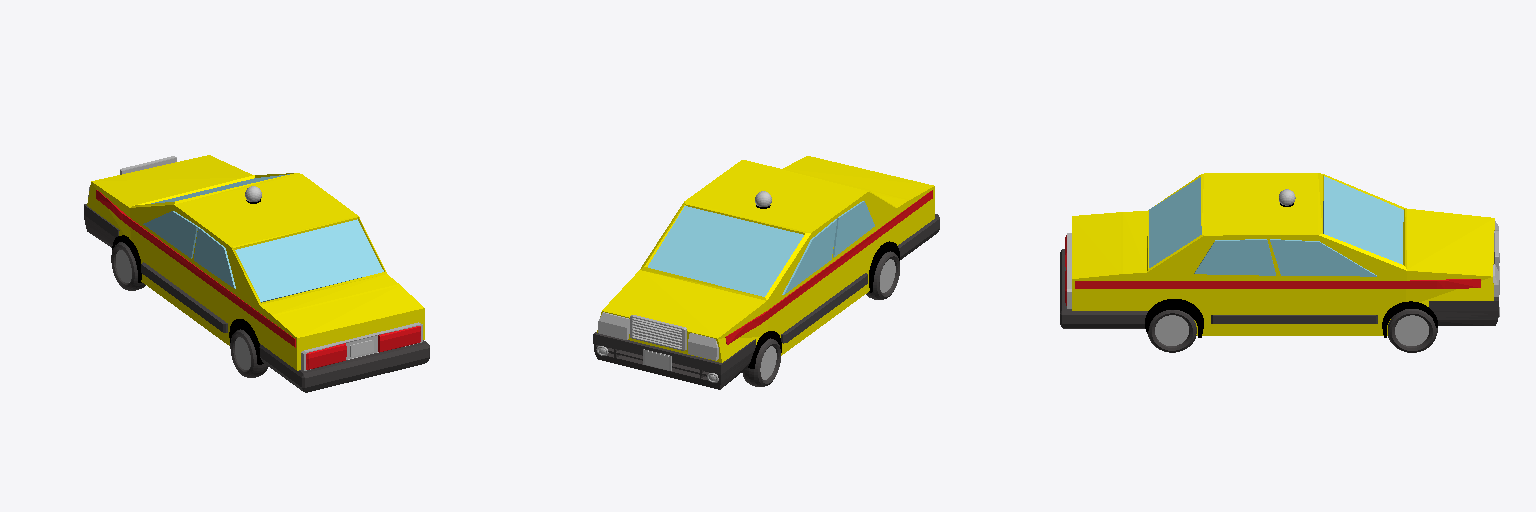
The picture shows the model from 3 angles: view 1: azimuth 30°, elevation 25°; view 2: azimuth 150°, elevation 25°; view 3: azimuth 270°, elevation 25°; orthographic projection.
Parts seen in each view (by area): view 1: Cube.001, 立方体.013_立方体.016, 立方体.006_立方体.007, 立方体.011_立方体.014, 立方体.015_立方体.018, 立方体.007_立方体.008, 立方体.014_立方体.017, 立方体_立方体.001, 立方体.008_立方体.009, Torus.004_Torus.007, Torus.003; view 2: Cube.001, 立方体.012_立方体.015, 立方体_立方体.001, 立方体.011_立方体.014, 立方体.015_立方体.018, 立方体.005_立方体.006, 立方体.014_立方体.017, Torus.003, 立方体.003_立方体.004, 立方体.006_立方体.007, 立方体.004_立方体.005, Torus.004_Torus.007; view 3: Cube.001, 立方体.010_立方体.011, 立方体.012_立方体.015, 立方体.015_立方体.018, 立方体.013_立方体.016, 立方体.006_立方体.007, 立方体_立方体.001, 立方体.014_立方体.017, Torus.005_Torus.008, 円柱.005_円柱.008, 円柱.004_円柱.007, Torus.006_Torus.009 (+1 smaller).
Part boxes in pixels (left/top/right/bottom): Cube.001: left=87, top=155, right=424, bottom=370; 立方体.013_立方体.016: left=235, top=219, right=383, bottom=302; 立方体.006_立方体.007: left=259, top=340, right=429, bottom=392; 立方体.011_立方体.014: left=143, top=211, right=235, bottom=288; 立方体.015_立方体.018: left=96, top=190, right=295, bottom=347; 立方体.007_立方体.008: left=306, top=326, right=420, bottom=369; 立方体.014_立方体.017: left=141, top=262, right=227, bottom=332; 立方体_立方体.001: left=84, top=204, right=119, bottom=247; 立方体.008_立方体.009: left=301, top=322, right=422, bottom=370; Torus.004_Torus.007: left=230, top=329, right=268, bottom=377; Torus.003: left=111, top=242, right=145, bottom=290; Cube.001: left=597, top=156, right=934, bottom=362; 立方体.012_立方体.015: left=648, top=206, right=803, bottom=296; 立方体_立方体.001: left=593, top=332, right=755, bottom=389; 立方体.011_立方体.014: left=782, top=201, right=874, bottom=294; 立方体.015_立方体.018: left=725, top=190, right=932, bottom=344; 立方体.005_立方体.006: left=630, top=315, right=686, bottom=350; 立方体.014_立方体.017: left=781, top=273, right=867, bottom=343; Torus.003: left=742, top=338, right=780, bottom=386; 立方体.003_立方体.004: left=598, top=312, right=629, bottom=339; 立方体.006_立方体.007: left=898, top=214, right=939, bottom=259; 立方体.004_立方体.005: left=688, top=333, right=718, bottom=360; Torus.004_Torus.007: left=866, top=251, right=899, bottom=299; Cube.001: left=1072, top=173, right=1494, bottom=335; 立方体.010_立方体.011: left=1194, top=239, right=1376, bottom=276; 立方体.012_立方体.015: left=1323, top=176, right=1403, bottom=264; 立方体.015_立方体.018: left=1075, top=279, right=1480, bottom=288; 立方体.013_立方体.016: left=1149, top=177, right=1201, bottom=267; 立方体.006_立方体.007: left=1060, top=249, right=1147, bottom=328; 立方体_立方体.001: left=1429, top=252, right=1498, bottom=325; 立方体.014_立方体.017: left=1211, top=315, right=1377, bottom=323; Torus.005_Torus.008: left=1388, top=309, right=1437, bottom=352; 円柱.005_円柱.008: left=1155, top=315, right=1188, bottom=345; 円柱.004_円柱.007: left=1395, top=315, right=1428, bottom=345; Torus.006_Torus.009: left=1147, top=310, right=1196, bottom=352.
Bounding box in the file's own units: 2.93 × 2.72 × 8.17.
Materials: 33 (6 with a texture image).